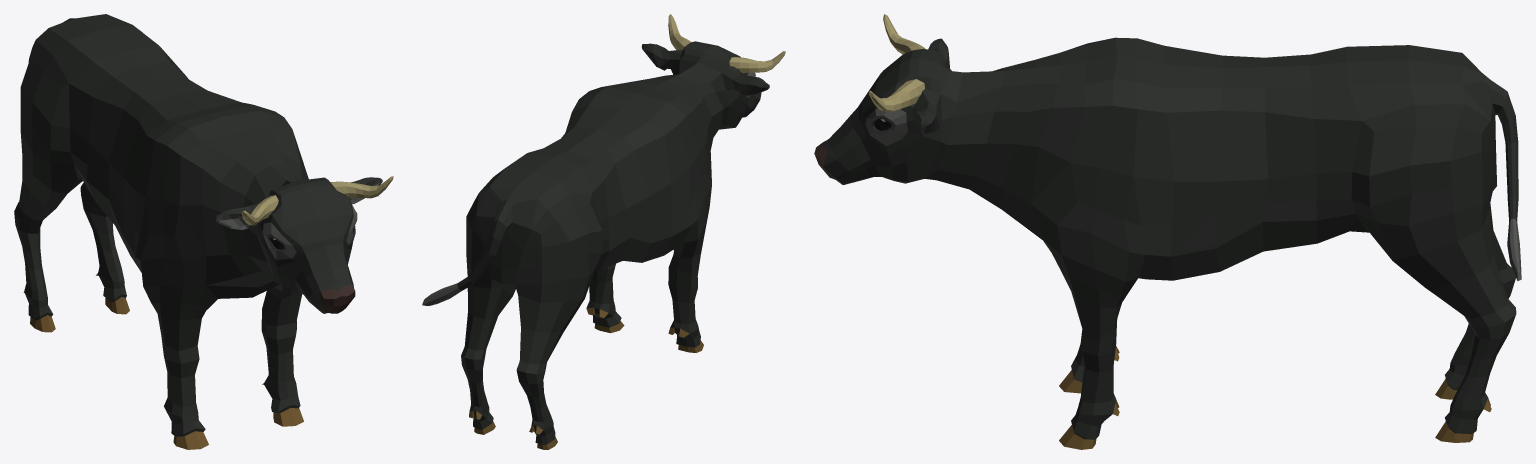
File: Bull.glb
3 views of the same model, side by side, from view 1: azimuth 30°, elevation 25°; view 2: azimuth 150°, elevation 25°; view 3: azimuth 270°, elevation 25° (orthographic). The views are drawn at different scales.
Visible parts, largest first — view 1: Cow_Cube; view 2: Cow_Cube; view 3: Cow_Cube.
Boxes of the visible parts, <box> form: Cow_Cube: <box>14,14,393,449</box>; Cow_Cube: <box>422,14,785,449</box>; Cow_Cube: <box>814,14,1521,449</box>.
Bounding box in the file's own units: 2.65 × 4.6 × 8.14.
1 material, 1 textured.
